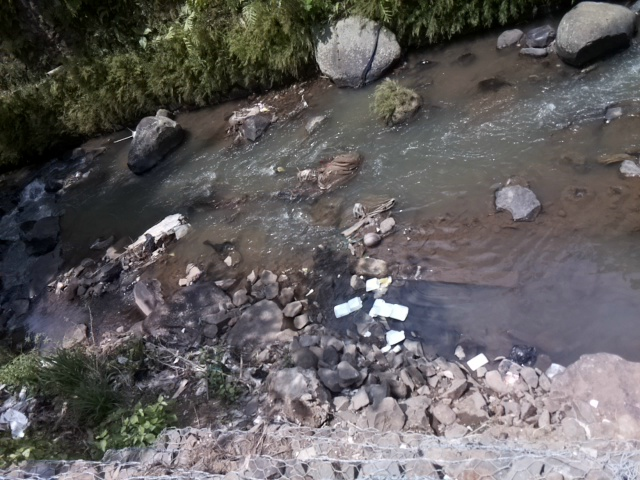Sampah_Plastik: (124, 210, 185, 258), (511, 344, 539, 366)
Sampah_Styrofoam: (369, 296, 410, 323), (330, 296, 364, 318), (465, 351, 490, 375), (385, 327, 404, 345), (363, 278, 382, 291)
